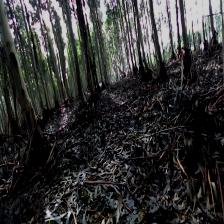trunk: (0, 0, 43, 139), (64, 4, 88, 105), (149, 3, 165, 73), (179, 3, 193, 66)
